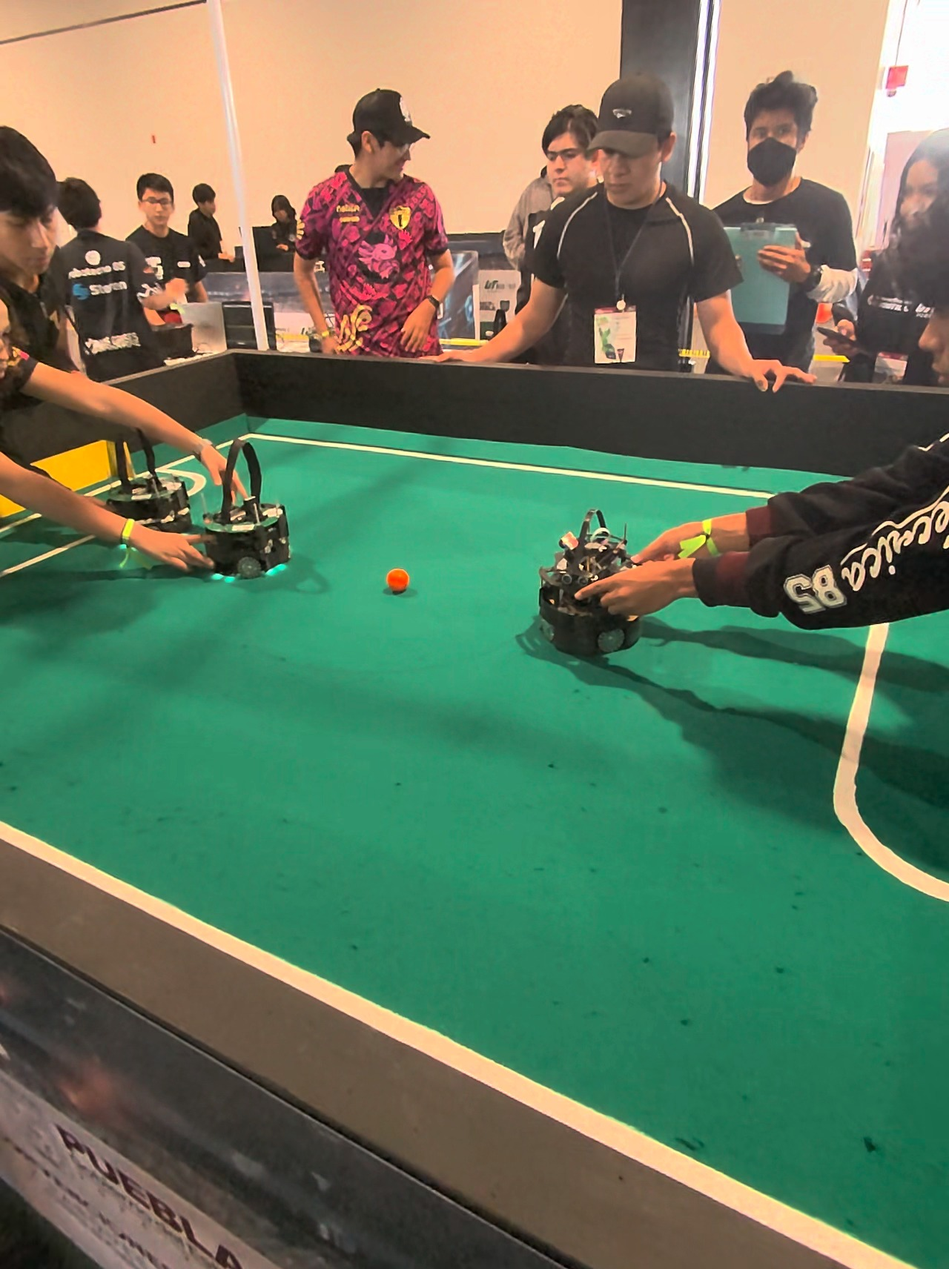Robot: (195, 434, 302, 602), (538, 509, 646, 674), (105, 422, 190, 539)
pelota: (387, 568, 414, 594)
